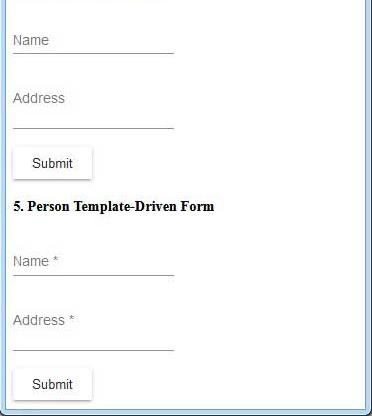button: (8, 144, 89, 184), (11, 366, 97, 403)
field_line: (8, 308, 176, 356), (9, 90, 179, 132), (10, 243, 174, 279), (8, 24, 176, 57)
